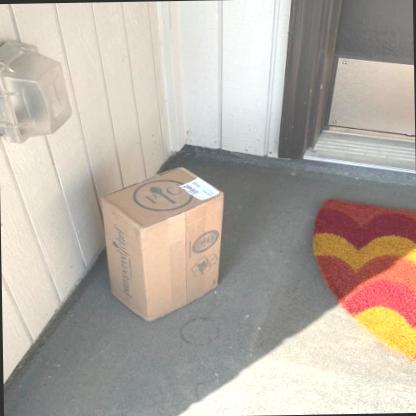box: (99, 165, 227, 322)
